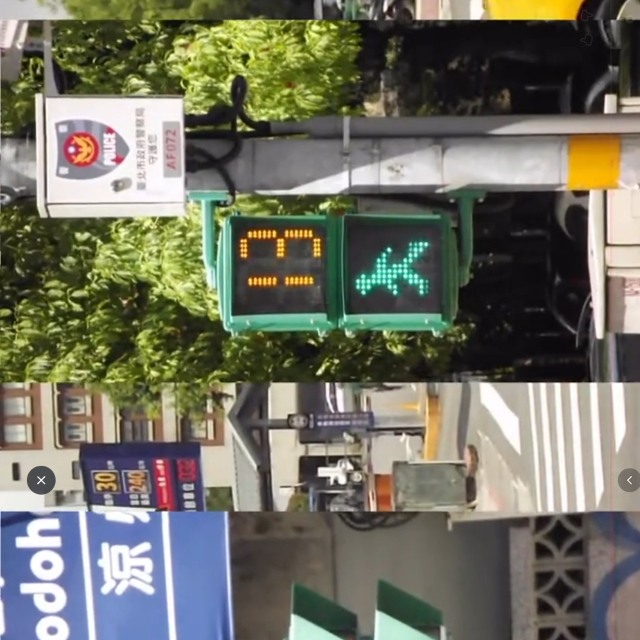green_light: (221, 217, 455, 321)
